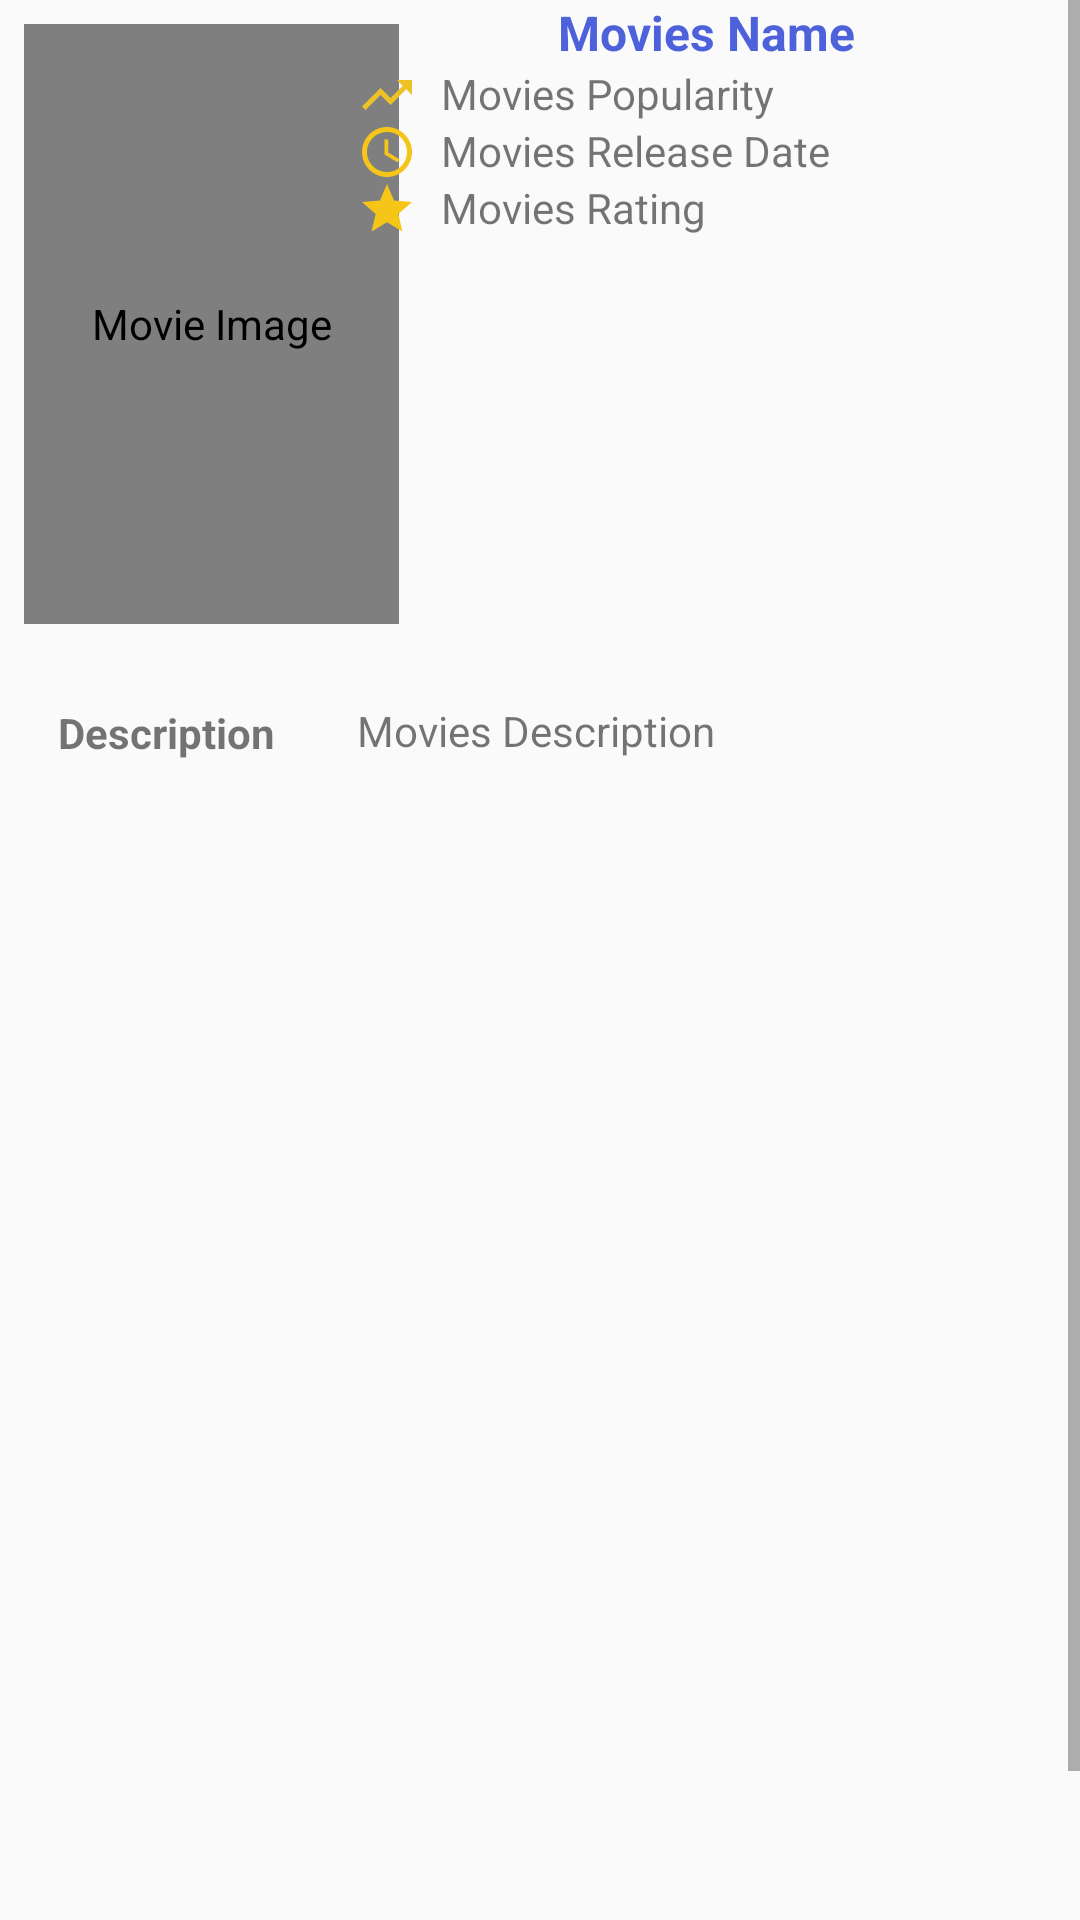

Where to tap for icons on this 1080x1920 app screen, as (x=x, y=y):
access time: (x=387, y=152)
star: (x=387, y=209)
trending up: (x=387, y=95)
